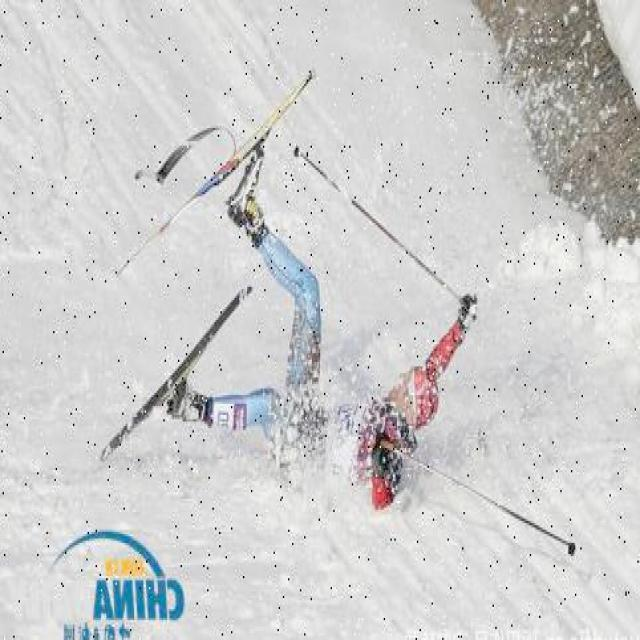fall: (208, 198, 472, 508)
